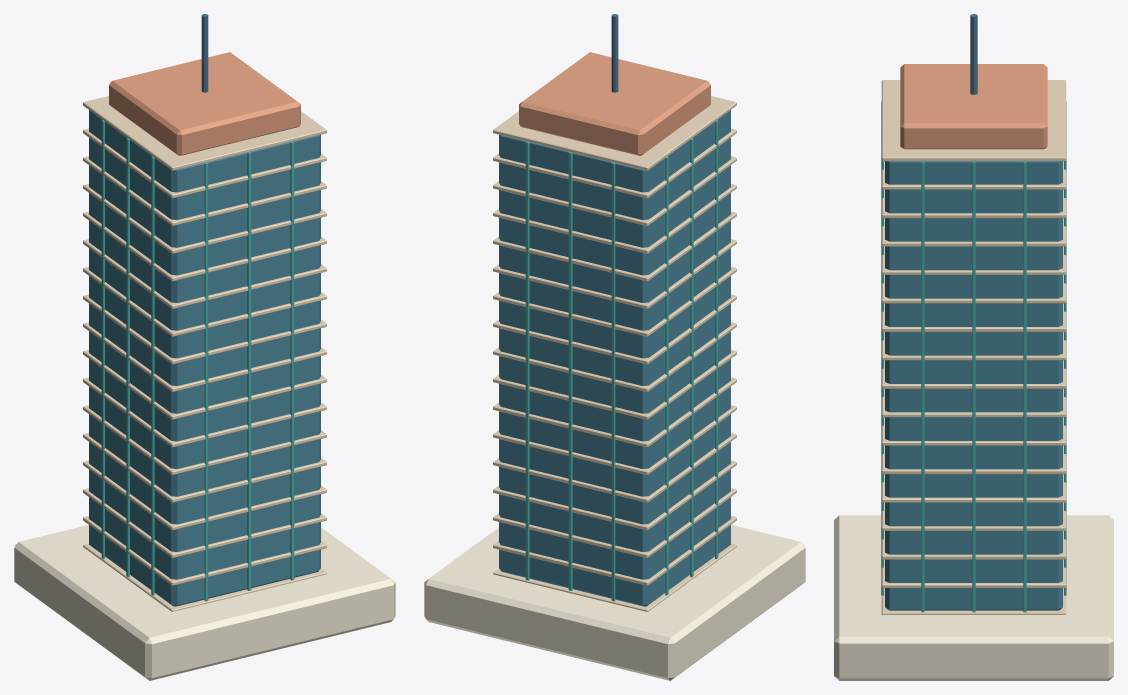
File: RES_TOWER_3x3_001.glb
3 views of the same model, side by side, from view 1: azimuth 30°, elevation 25°; view 2: azimuth 150°, elevation 25°; view 3: azimuth 270°, elevation 25° (orthographic). The views are drawn at different scales.
Visible parts, largest first — view 1: RES_TOWER_3x3_001_Visual; view 2: RES_TOWER_3x3_001_Visual; view 3: RES_TOWER_3x3_001_Visual.
Part boxes in pixels (x1,y1,x2,y2): RES_TOWER_3x3_001_Visual: (14,14,395,680); RES_TOWER_3x3_001_Visual: (424,14,805,680); RES_TOWER_3x3_001_Visual: (834,14,1113,680).
Size of what is drawn, in the model's own units: 4.55 by 10.2 by 4.28.
